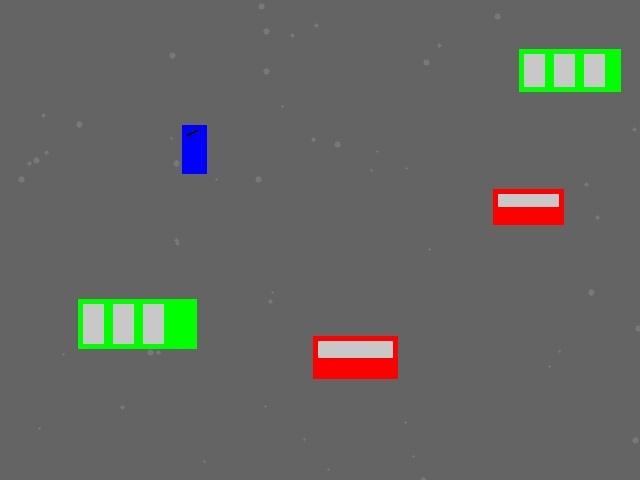bus: (78, 299, 196, 348), (519, 49, 620, 91)
car: (313, 336, 397, 378), (493, 189, 563, 224)
motorcycle: (182, 125, 206, 173)
